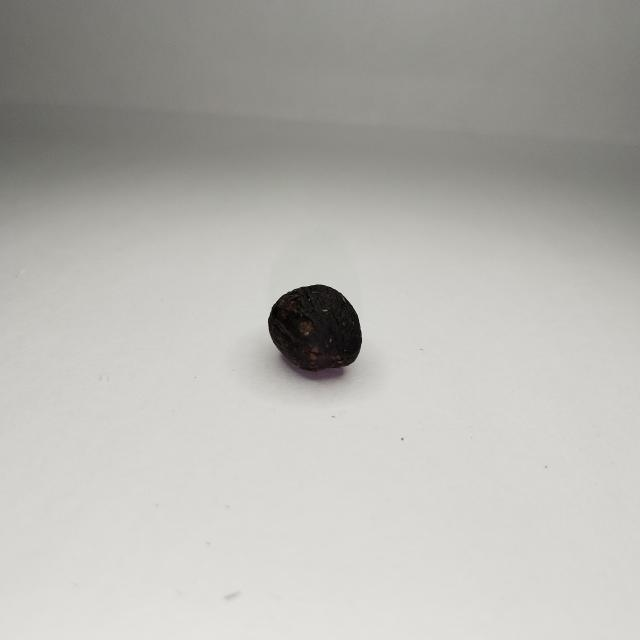Danado: (268, 284, 362, 375)
